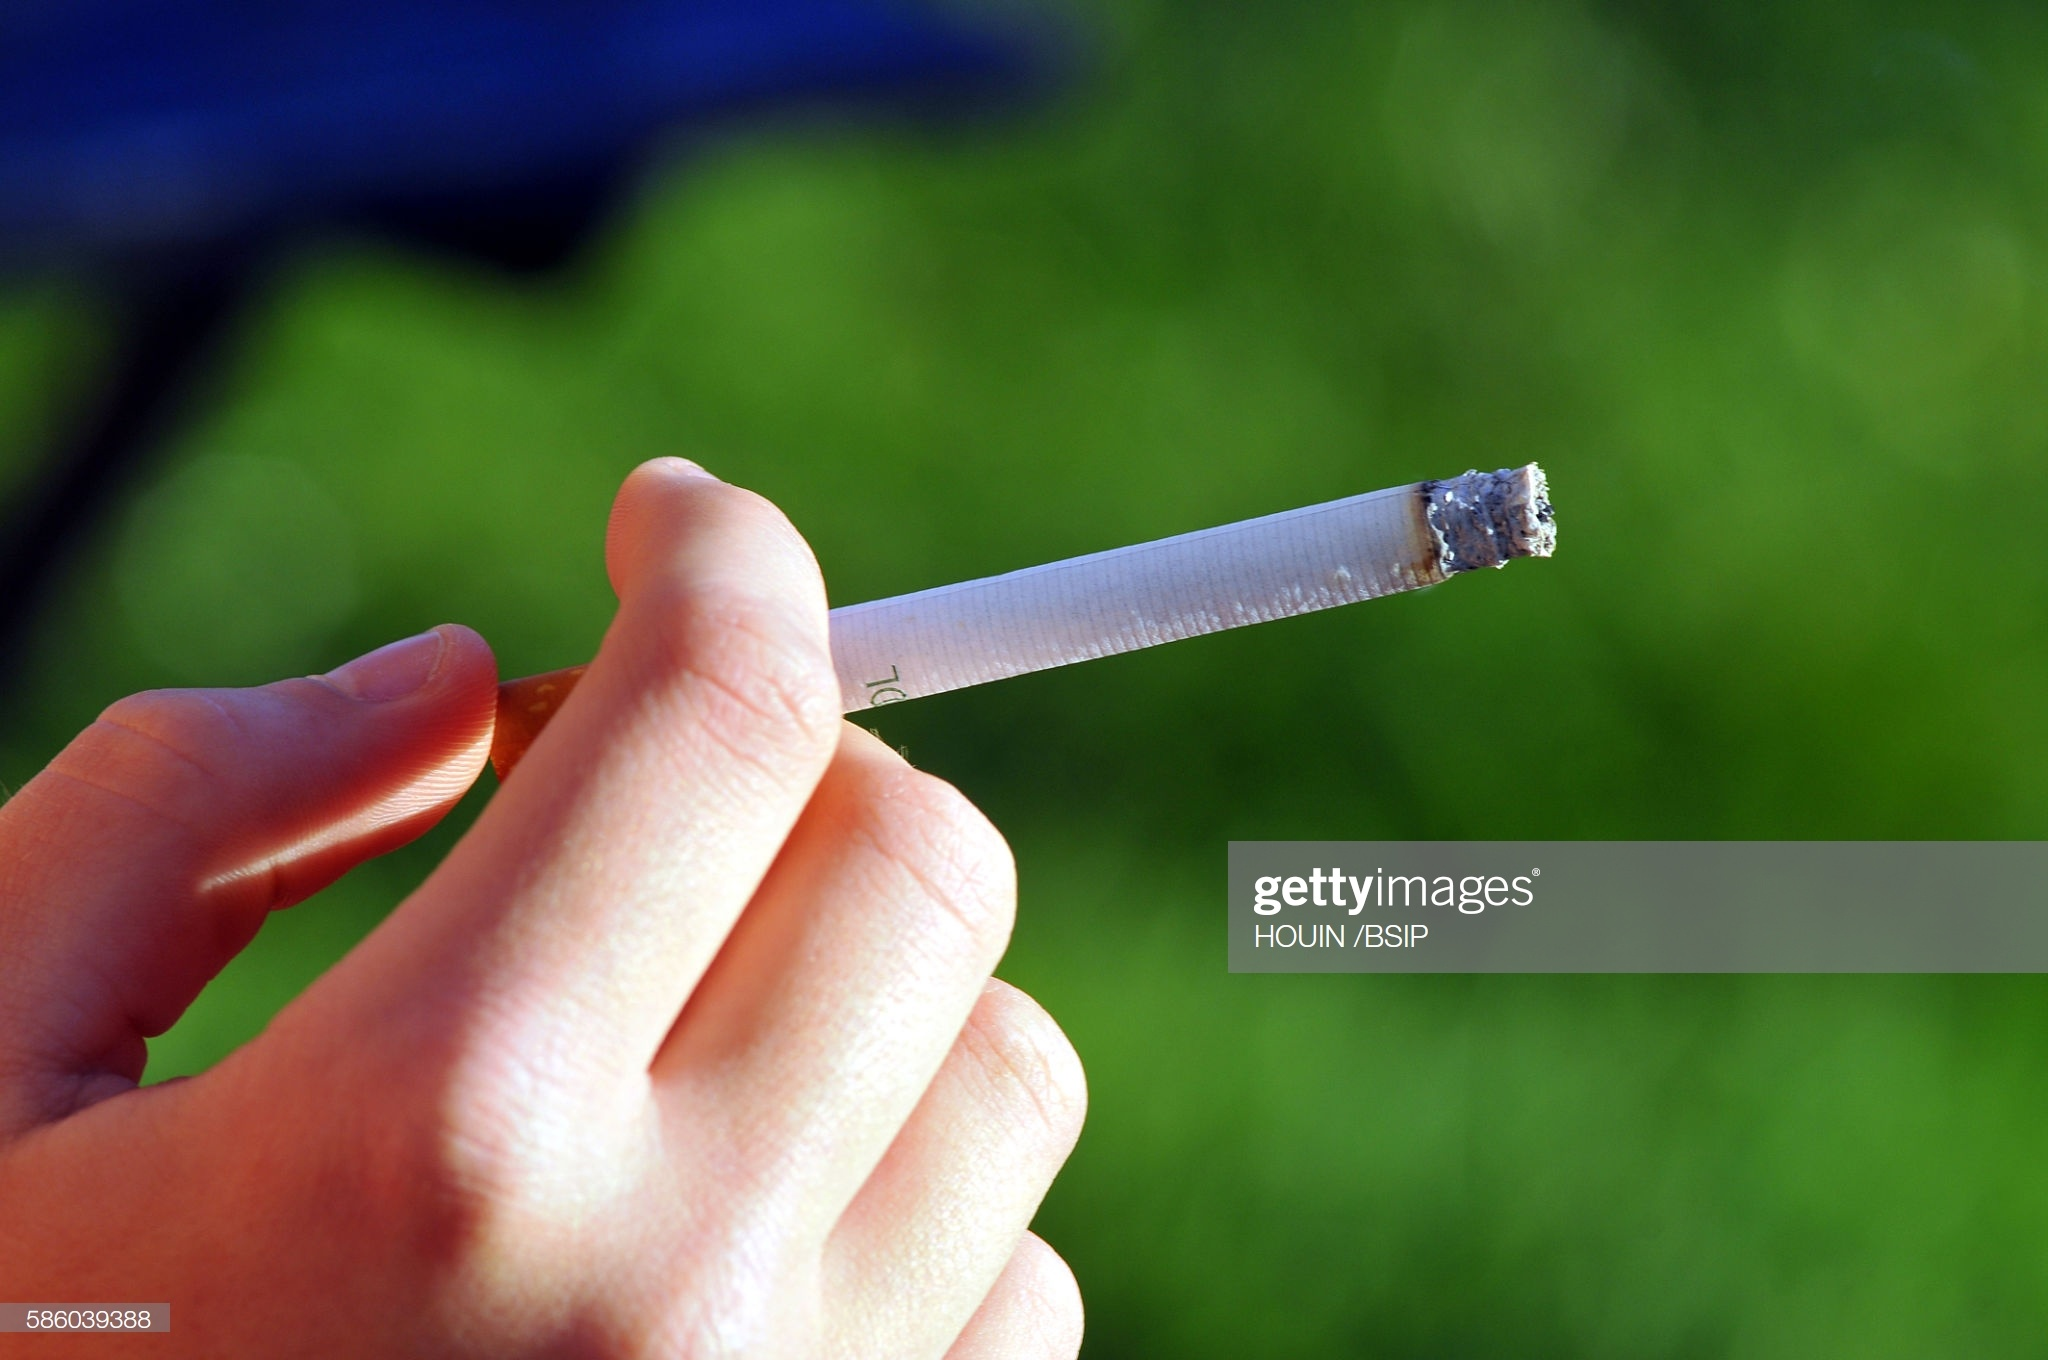sigaretta: (276, 457, 1550, 820)
